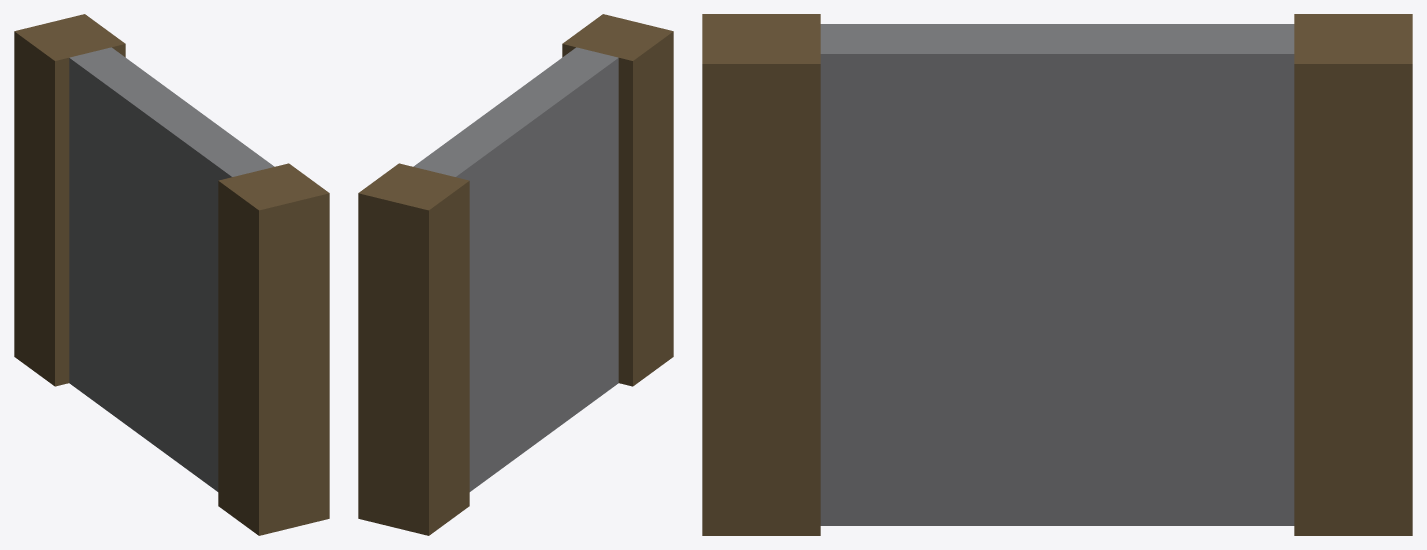
Rendered from Wood_Wall_01.obj.
3 views of the same model, side by side, from view 1: azimuth 30°, elevation 25°; view 2: azimuth 150°, elevation 25°; view 3: azimuth 270°, elevation 25° (orthographic). The views are drawn at different scales.
Visible parts, largest first — view 1: Mesh1_Wood_Wall_Model; view 2: Mesh1_Wood_Wall_Model; view 3: Mesh1_Wood_Wall_Model.
Part boxes in pixels (box(x1,y1,x2,y2)): Mesh1_Wood_Wall_Model: box(14, 14, 329, 535); Mesh1_Wood_Wall_Model: box(358, 14, 673, 535); Mesh1_Wood_Wall_Model: box(702, 14, 1412, 535).
Size of the model in its own units: 0.5 by 2.2 by 3.
